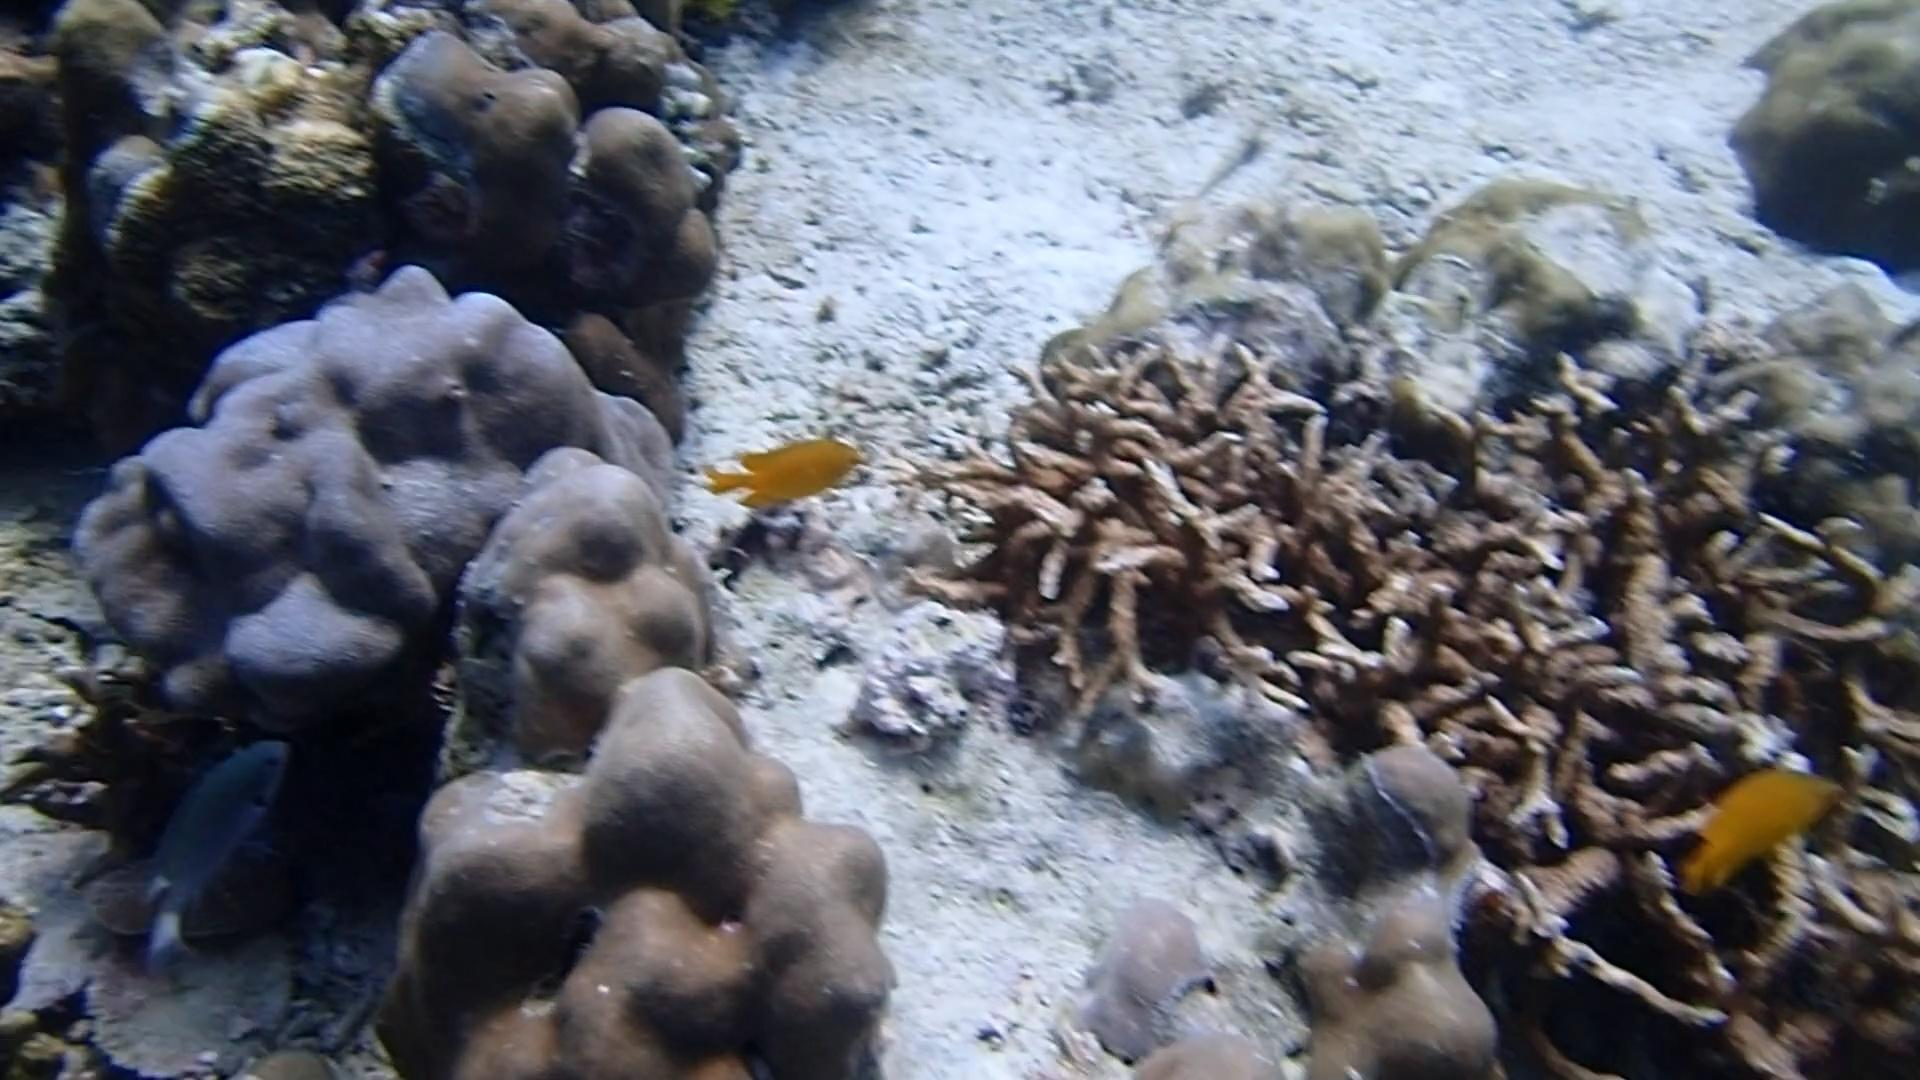Blue Fish Two: (136, 724, 295, 967)
Yellow Fish: (1654, 756, 1846, 893), (687, 430, 874, 524)
